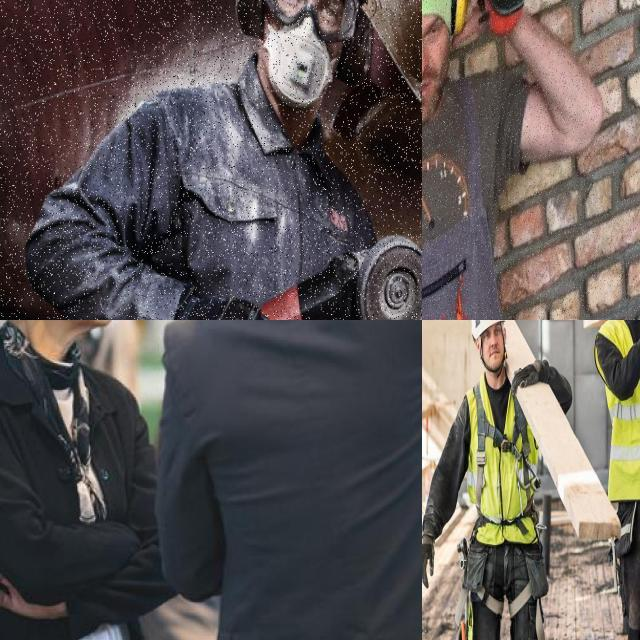Ear-protection: (227, 0, 276, 50), (447, 0, 471, 41)
No_Glasses: (422, 12, 443, 49)
face_nomask: (473, 322, 509, 372)
glasses: (256, 0, 362, 47)
hand_glove: (504, 362, 550, 396), (422, 538, 443, 583)
head_helmet: (470, 320, 505, 338)
person: (111, 0, 422, 320), (422, 320, 576, 640), (587, 320, 640, 640)
vest: (463, 372, 542, 548), (595, 320, 640, 487)
